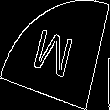M_S: (31, 24, 79, 86)
